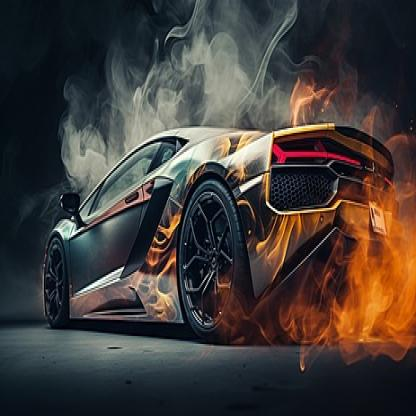car: (40, 127, 395, 339)
